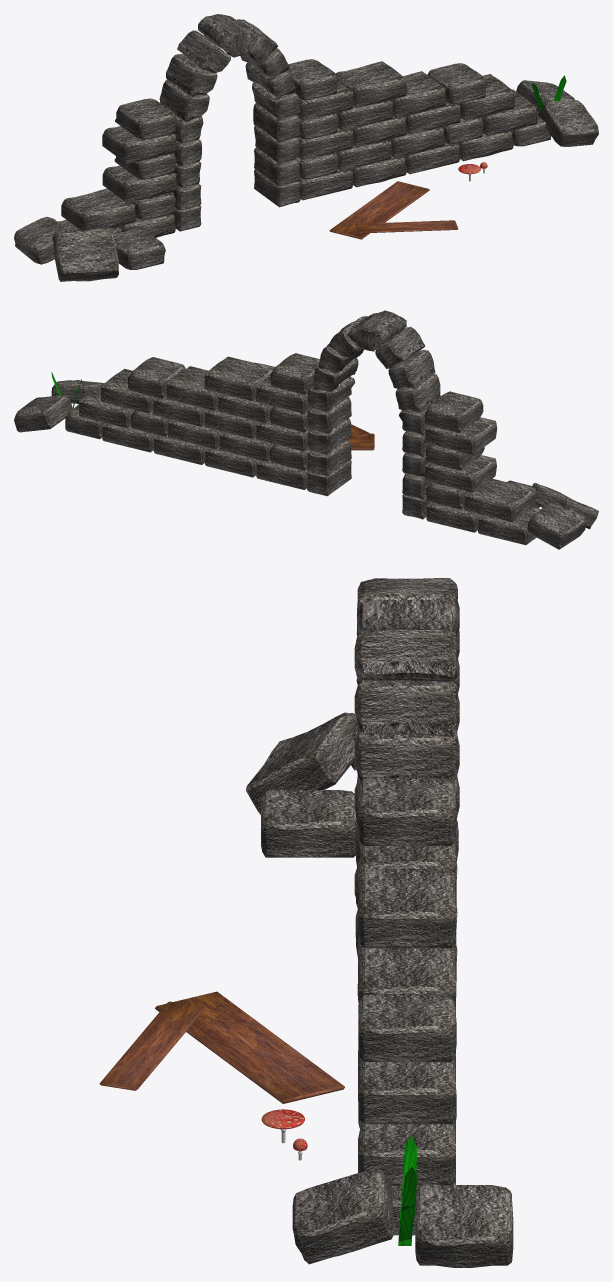
File: ruines.FBX
The picture shows the model from 3 angles, top to bottom: view 1: azimuth 30°, elevation 25°; view 2: azimuth 150°, elevation 25°; view 3: azimuth 270°, elevation 25°; orthographic projection. The views are drawn at different scales.
Parts seen in each view (by area): view 1: Boîte009, Porte, planche (×2), PetitePierre001, GrossePierre, doublePierre, PetitePierre; view 2: Boîte009, Porte, doublePierre, PetitePierre001, GrossePierre, PetitePierre, planche; view 3: Boîte009, Porte, planche (×2), GrossePierre, plante.
Boxes of the visible parts, x1,y1,x2,y2 form: Boîte009: (52,59,598,281); Porte: (159,14,300,231); planche (×2): (329,181,458,239); PetitePierre001: (14,217,69,264); GrossePierre: (458,74,515,120); doublePierre: (57,214,175,237); PetitePierre: (296,152,339,179); Boîte009: (14,353,598,529); Porte: (307,310,440,519); doublePierre: (426,502,540,545); PetitePierre001: (527,502,586,549); GrossePierre: (101,368,155,413); PetitePierre: (270,444,309,470); planche: (348,433,374,450); Boîte009: (246,712,513,1267); Porte: (354,578,459,997); planche (×2): (99,991,344,1103); GrossePierre: (358,1052,455,1124); plante: (398,1135,417,1245).
Size of the model in its own units: 135 by 44.84 by 45.13.
5 materials, 5 textured.
